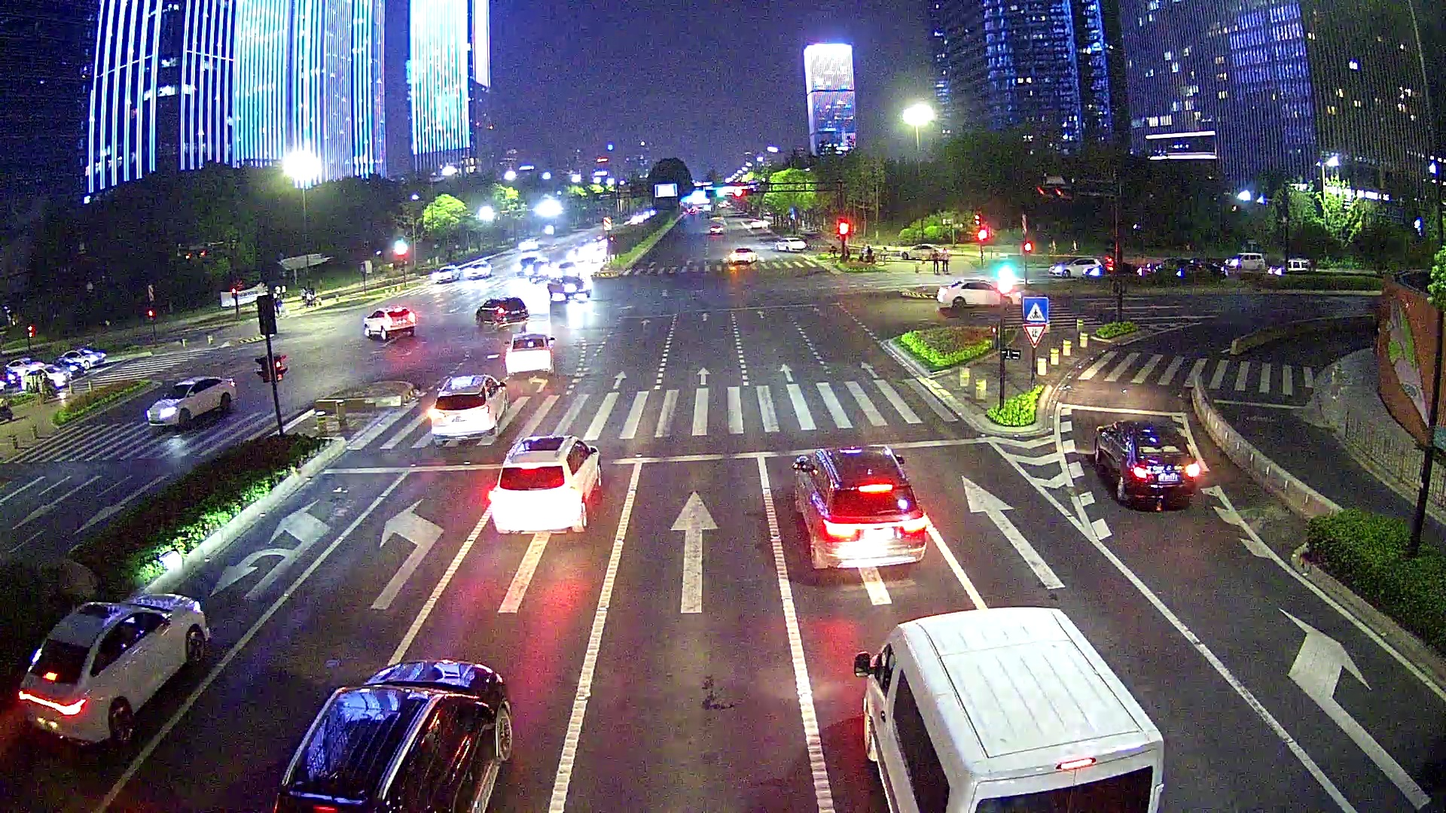vehicle: (848, 599, 1172, 811), (268, 653, 531, 813), (8, 587, 215, 750), (787, 437, 933, 576), (480, 429, 609, 538), (1091, 414, 1205, 508), (139, 372, 241, 433), (426, 370, 505, 445), (363, 302, 414, 343), (474, 295, 524, 327)
